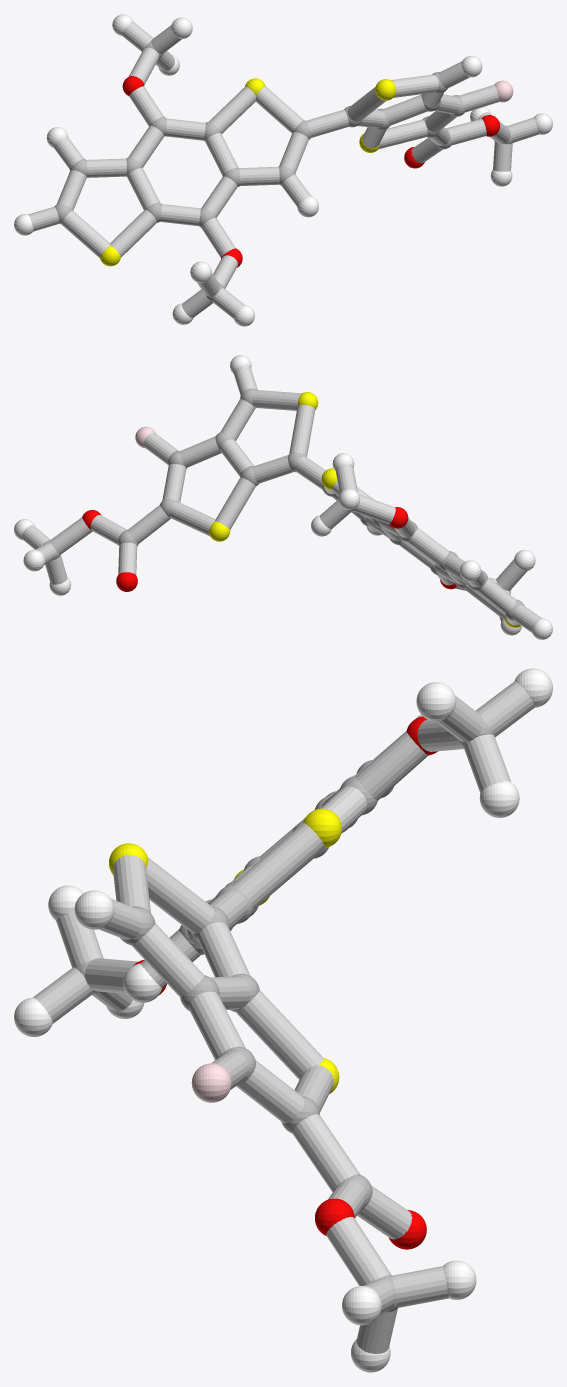
Rendered from color.glb.
3 renders of one model, top to bottom at view 1: azimuth 30°, elevation 25°; view 2: azimuth 150°, elevation 25°; view 3: azimuth 270°, elevation 25°, orthographic. The views are drawn at different scales.
Visible parts, largest first — view 1: grp15205, grp8689, grp1, grp7241, grp13395; view 2: grp15205, grp8689, grp1, grp13395, grp7241; view 3: grp15205, grp8689, grp1, grp13395, grp7241, grp14843.
Boxes of the visible parts, <box> form: grp15205: <box>28,21,539,318</box>; grp8689: <box>14,14,552,326</box>; grp1: <box>54,41,512,301</box>; grp7241: <box>100,78,395,266</box>; grp13395: <box>122,76,499,267</box>; grp15205: <box>22,365,541,632</box>; grp8689: <box>14,355,552,639</box>; grp1: <box>43,388,524,620</box>; grp13395: <box>82,507,456,591</box>; grp7241: <box>209,392,520,627</box>; grp15205: <box>33,681,534,1353</box>; grp8689: <box>14,668,552,1372</box>; grp1: <box>74,720,493,1312</box>; grp13395: <box>133,716,437,1249</box>; grp7241: <box>109,808,341,1093</box>; grp14843: <box>191,1063,231,1102</box>.
Size of the model in its own units: 17.08 by 6.93 by 8.11.
